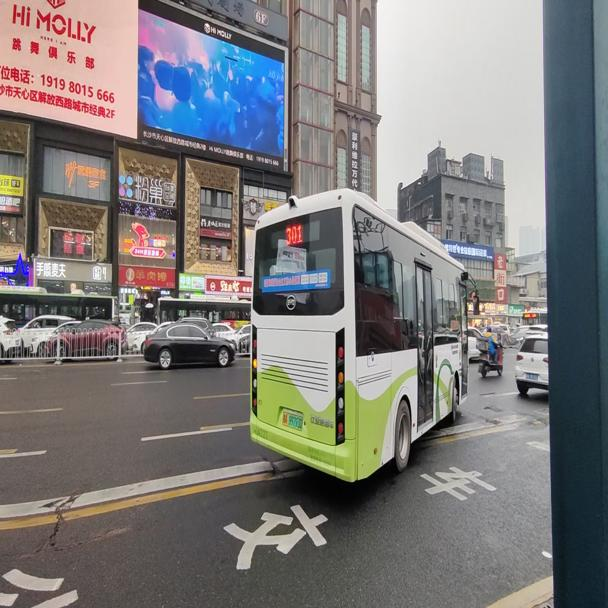bus: (247, 185, 480, 481), (521, 310, 547, 326)
screen: (285, 223, 302, 242)
